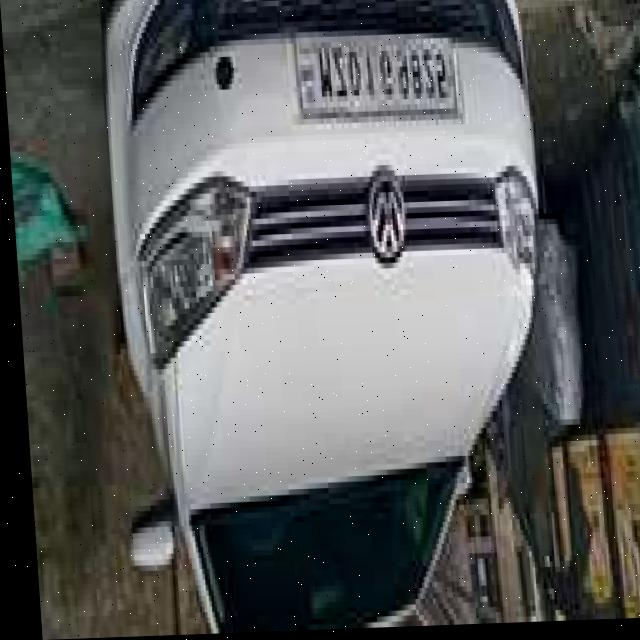plate: (291, 38, 460, 127)
